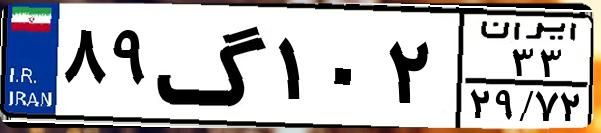0: (330, 28, 385, 110)
1: (270, 28, 330, 110)
2: (385, 28, 445, 110), (560, 70, 590, 125), (470, 70, 495, 125)
3: (537, 27, 568, 80), (508, 27, 537, 80)
7: (535, 70, 560, 125)
8: (57, 26, 110, 100)
9: (110, 28, 156, 98), (495, 70, 520, 125)
گ: (156, 12, 270, 120)
